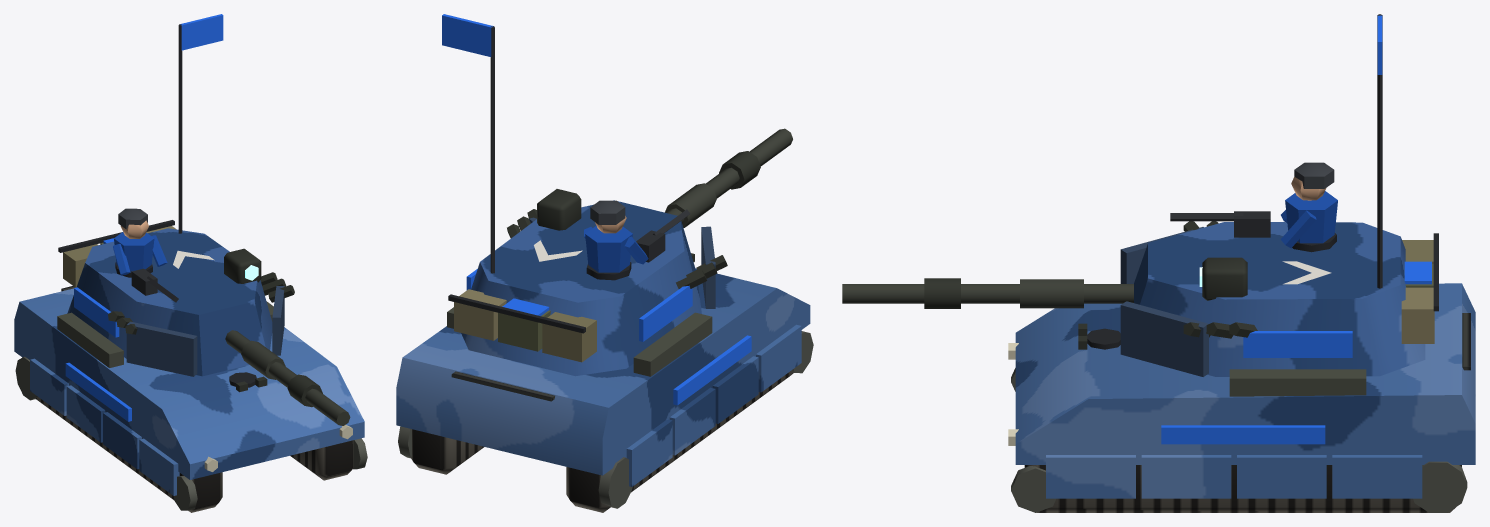
File: assault_dl7_blue.glb
3 views of the same model, side by side, from view 1: azimuth 30°, elevation 25°; view 2: azimuth 150°, elevation 25°; view 3: azimuth 270°, elevation 25° (orthographic). The views are drawn at different scales.
Parts seen in each view (by area): view 1: assault_dl7_blue; view 2: assault_dl7_blue; view 3: assault_dl7_blue.
Part boxes in pixels (box(x1,y1,x2,y2)): assault_dl7_blue: box(14, 14, 367, 512); assault_dl7_blue: box(396, 14, 813, 512); assault_dl7_blue: box(842, 14, 1475, 512).
Size of the model in its own units: 0.31 by 0.575 by 0.695.
2 materials, 1 textured.
